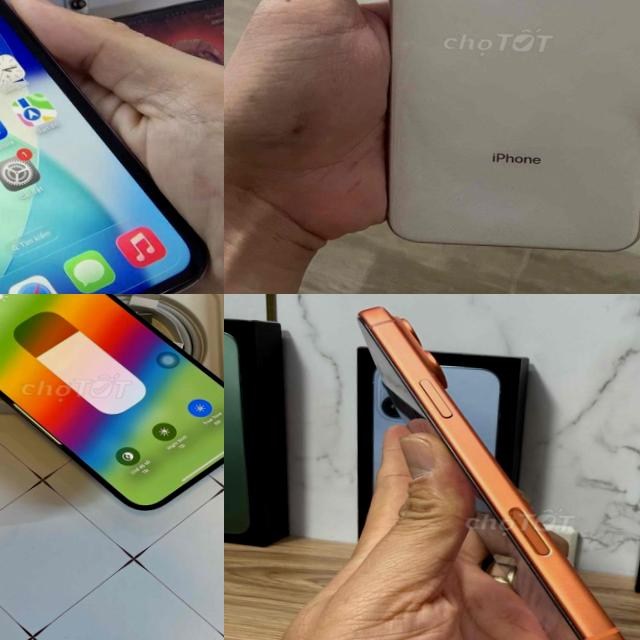gen_11: (0, 0, 224, 294)
gen_15: (0, 294, 224, 520)
gen_17: (334, 294, 640, 640)
gen_7_8: (366, 0, 640, 257)
